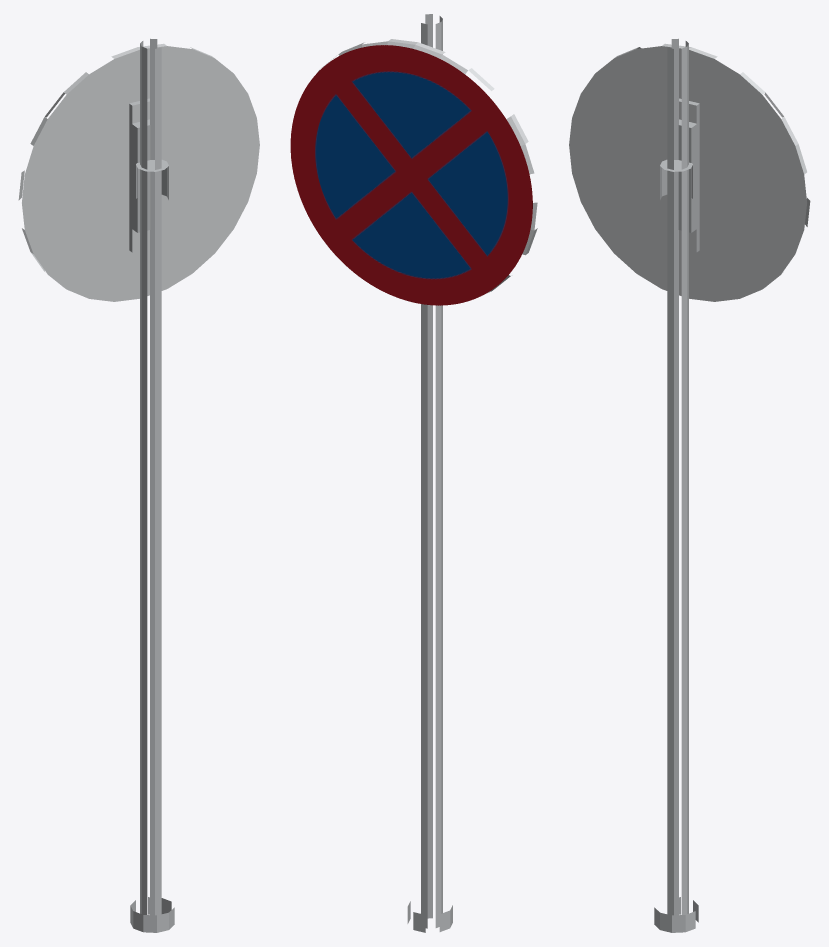
The model's file is sign_no_stopping.glb.
3 renders of one model, left to right at view 1: azimuth 30°, elevation 25°; view 2: azimuth 150°, elevation 25°; view 3: azimuth 330°, elevation 25°, orthographic. The views are drawn at different scales.
Parts seen in each view (by area): view 1: sign_no_stopping; view 2: sign_no_stopping; view 3: sign_no_stopping.
Part boxes in pixels (bbox=[...]): sign_no_stopping: bbox=[18, 38, 259, 932]; sign_no_stopping: bbox=[290, 14, 537, 932]; sign_no_stopping: bbox=[569, 38, 810, 932].
Bounding box in the file's own units: 0.72 × 2.52 × 0.1487.
Materials: 5 (1 with a texture image).
